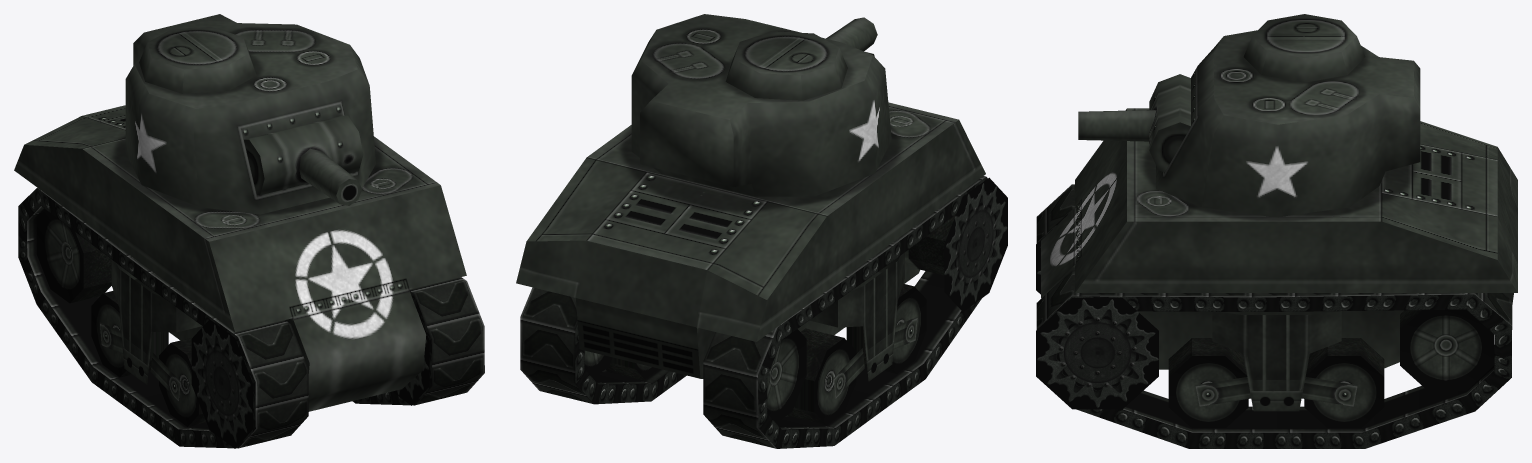
The model's file is M4A3_SD_Model_Track.FBX.
3 views of the same model, side by side, from view 1: azimuth 30°, elevation 25°; view 2: azimuth 150°, elevation 25°; view 3: azimuth 270°, elevation 25° (orthographic). The views are drawn at different scales.
Parts seen in each view (by area): view 1: Body, RightTrack, Turret, LeftTrack, Cannon; view 2: Body, RightTrack, Turret, LeftTrack, Cannon; view 3: LeftTrack, Body, Turret, Cannon, RightTrack.
Part boxes in pixels (x1=…): Body: x1=14, y1=105, x2=466, y2=411; RightTrack: x1=18, y1=188, x2=308, y2=448; Turret: x1=125, y1=14, x2=375, y2=214; LeftTrack: x1=352, y1=277, x2=484, y2=405; Cannon: x1=244, y1=115, x2=363, y2=205; Body: x1=516, y1=102, x2=985, y2=378; RightTrack: x1=703, y1=176, x2=1007, y2=448; Turret: x1=631, y1=14, x2=891, y2=196; LeftTrack: x1=520, y1=287, x2=686, y2=404; Cannon: x1=826, y1=17, x2=877, y2=56; LeftTrack: x1=1036, y1=270, x2=1512, y2=448; Body: x1=1041, y1=108, x2=1517, y2=369; Turret: x1=1156, y1=14, x2=1420, y2=217; Cannon: x1=1078, y1=74, x2=1190, y2=172; RightTrack: x1=1036, y1=184, x2=1074, y2=294.
Size of the model in its own units: 0.9156 by 1.26 by 1.62.
2 materials, 2 textured.
